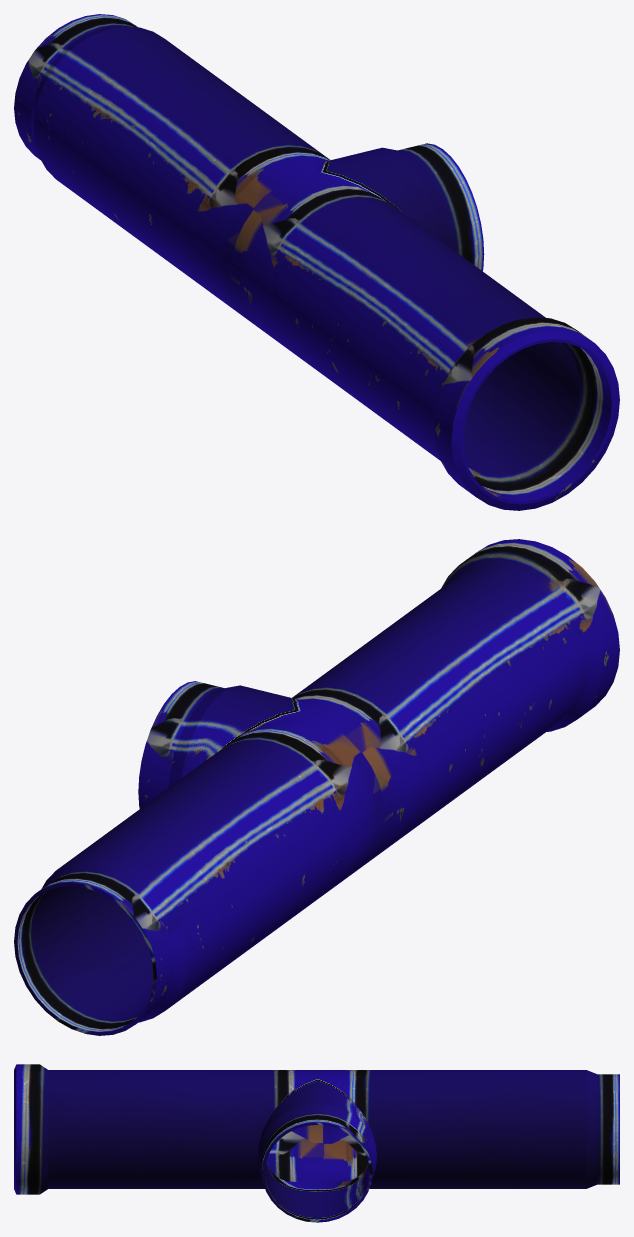
The model's file is SewerPipes.fbx.
3 renders of one model, top to bottom at view 1: azimuth 30°, elevation 25°; view 2: azimuth 150°, elevation 25°; view 3: azimuth 270°, elevation 25°, orthographic. The views are drawn at different scales.
Visible parts, largest first — view 1: Object_18; view 2: Object_18; view 3: Object_18.
Part boxes in pixels (left/top/right/bottom): Object_18: left=14, top=14, right=619, bottom=510; Object_18: left=14, top=539, right=619, bottom=1035; Object_18: left=14, top=1064, right=619, bottom=1222.
Size of the model in its own units: 128 by 99.78 by 463.
